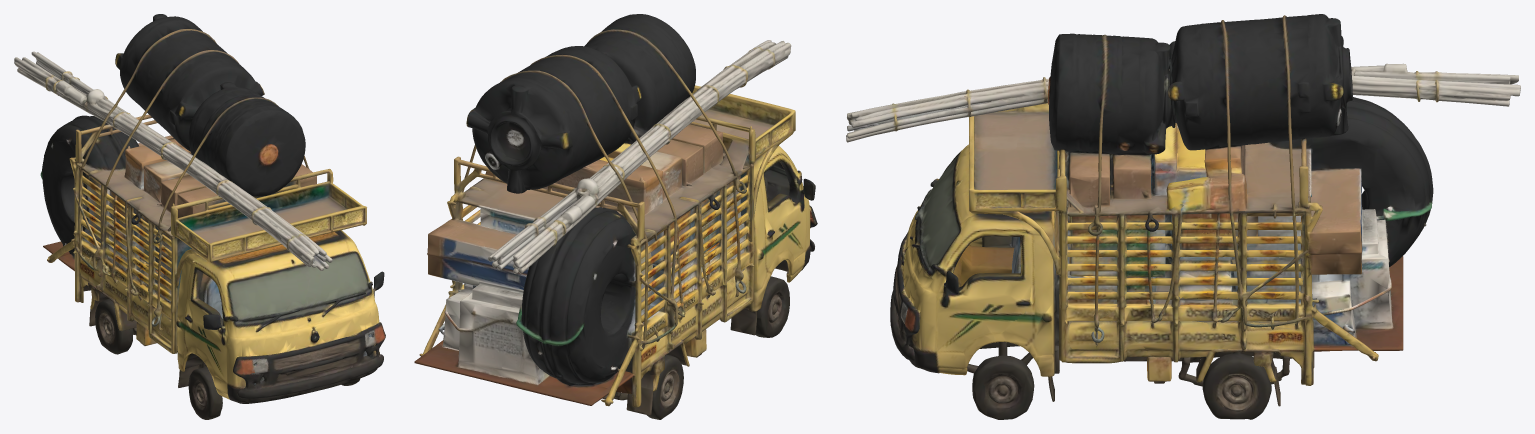
The model's file is tataace.glb.
3 views of the same model, side by side, from view 1: azimuth 30°, elevation 25°; view 2: azimuth 150°, elevation 25°; view 3: azimuth 270°, elevation 25° (orthographic). The views are drawn at different scales.
Visible parts, largest first — view 1: tripo_node_6f9738ed-4a71-467e-b65a-e9142a3447dd; view 2: tripo_node_6f9738ed-4a71-467e-b65a-e9142a3447dd; view 3: tripo_node_6f9738ed-4a71-467e-b65a-e9142a3447dd.
Boxes of the visible parts, box(x1,y1,x2,y2) form: tripo_node_6f9738ed-4a71-467e-b65a-e9142a3447dd: box(14, 14, 385, 419); tripo_node_6f9738ed-4a71-467e-b65a-e9142a3447dd: box(414, 14, 817, 419); tripo_node_6f9738ed-4a71-467e-b65a-e9142a3447dd: box(846, 14, 1520, 419).
Bounding box in the file's own units: 0.3916 × 0.5958 × 0.9999.
1 material, 1 textured.
